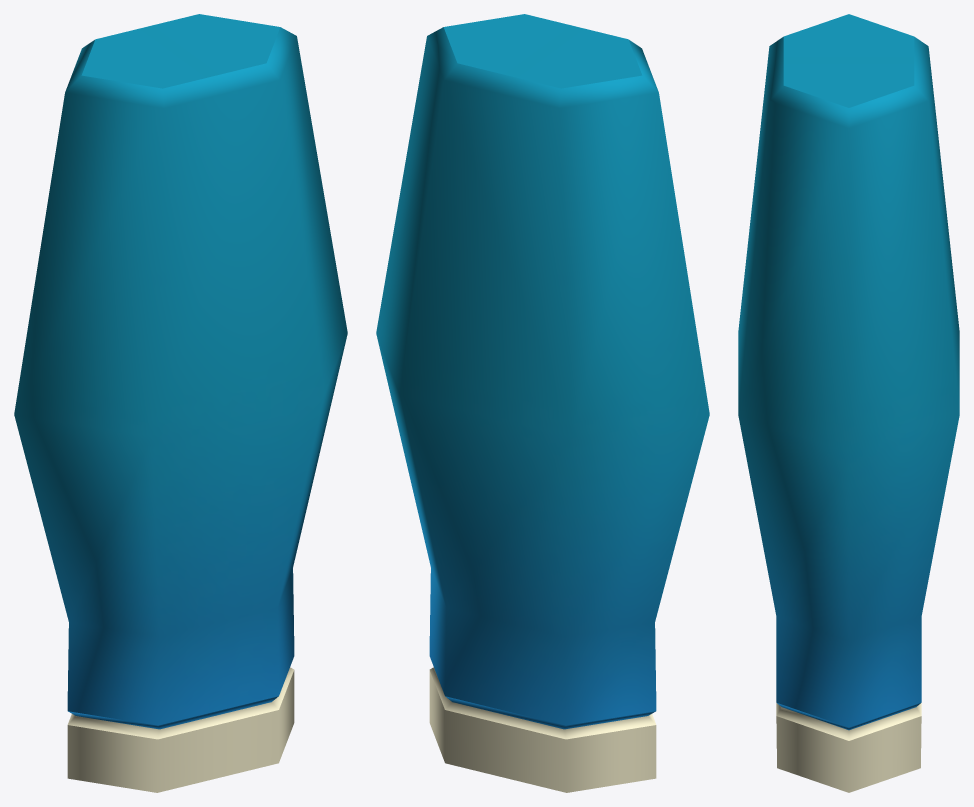
The model's file is SM_Shampoo_1_03.fbx.
The picture shows the model from 3 angles, left to right: view 1: azimuth 30°, elevation 25°; view 2: azimuth 150°, elevation 25°; view 3: azimuth 270°, elevation 25°; orthographic projection. The views are drawn at different scales.
Parts seen in each view (by area): view 1: SM_Shampoo_1_03; view 2: SM_Shampoo_1_03; view 3: SM_Shampoo_1_03.
Boxes of the visible parts, x1,y1,x2,y2 form: SM_Shampoo_1_03: [14, 14, 347, 792]; SM_Shampoo_1_03: [376, 14, 709, 792]; SM_Shampoo_1_03: [738, 14, 959, 792].
Size of the model in its own units: 10.43 by 20.89 by 6.18.
